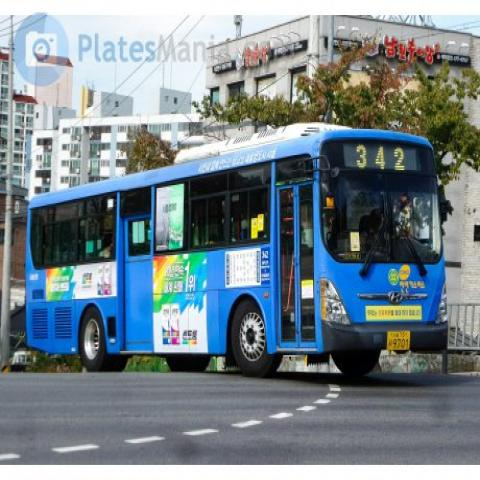LP: (386, 324, 413, 356)
